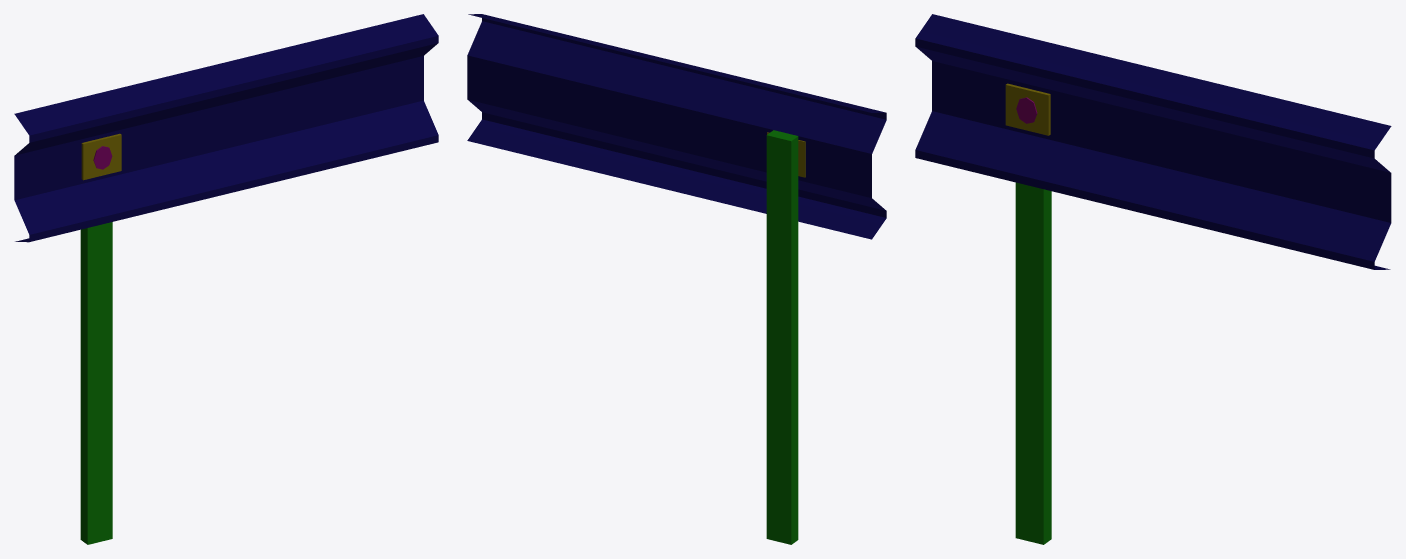
Rendered from Middle GuardRail.FBX.
The picture shows the model from 3 angles, left to right: view 1: azimuth 30°, elevation 25°; view 2: azimuth 150°, elevation 25°; view 3: azimuth 330°, elevation 25°; orthographic projection. The views are drawn at different scales.
Parts seen in each view (by area): view 1: Middle Guardrail; view 2: Middle Guardrail; view 3: Middle Guardrail.
Boxes of the visible parts, x1,y1,x2,y2 form: Middle Guardrail: (14,14,438,544); Middle Guardrail: (467,14,886,544); Middle Guardrail: (915,14,1391,544).
Bounding box in the file's own units: 1 × 1.05 × 0.0955.
